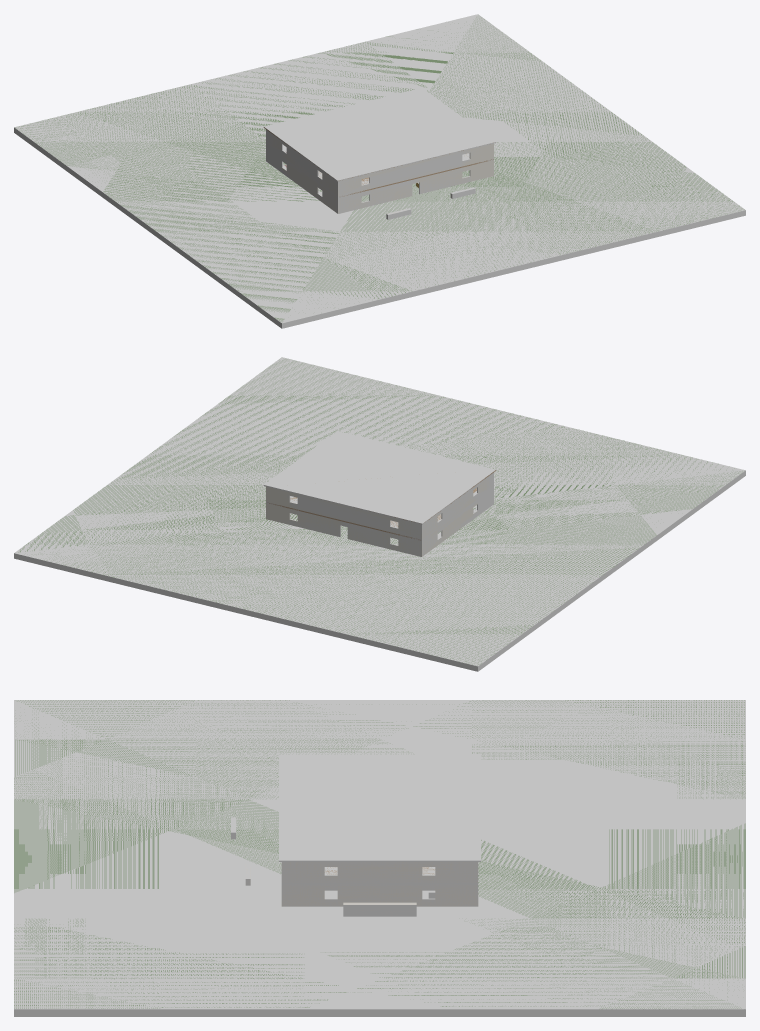
File: map_house_large.glb
3 views of the same model, one above another, from view 1: azimuth 30°, elevation 25°; view 2: azimuth 150°, elevation 25°; view 3: azimuth 270°, elevation 25° (orthographic). The views are drawn at different scales.
Parts seen in each view (by area): view 1: Col_Ground, Ground, Col_Roof, Static_Walls, Col_Wall_68, Col_Wall_18, Col_Wall_20; view 2: Col_Ground, Ground, Col_Roof, Static_Walls, Col_Wall_75, Col_Wall_27, Col_Wall_29; view 3: Col_Ground, Ground, Col_Roof, Static_Walls, Col_Wall_61, Col_Wall_11, Col_Wall_58, Col_Wall_64, Col_Barrier_03, Col_Wall_14, Col_Wall_08, Col_Floor_07.
Part boxes in pixels (x1=…): Col_Ground: x1=14, y1=14, x2=745, y2=328; Ground: x1=15, y1=17, x2=744, y2=321; Col_Roof: x1=264, y1=88, x2=496, y2=181; Static_Walls: x1=266, y1=133, x2=493, y2=214; Col_Wall_68: x1=369, y1=151, x2=462, y2=188; Col_Wall_18: x1=369, y1=180, x2=412, y2=206; Col_Wall_20: x1=419, y1=168, x2=462, y2=194; Col_Ground: x1=14, y1=357, x2=745, y2=671; Ground: x1=18, y1=359, x2=742, y2=665; Col_Roof: x1=263, y1=431, x2=495, y2=524; Static_Walls: x1=266, y1=477, x2=491, y2=556; Col_Wall_75: x1=297, y1=494, x2=390, y2=531; Col_Wall_27: x1=347, y1=523, x2=390, y2=549; Col_Wall_29: x1=297, y1=511, x2=340, y2=536; Col_Ground: x1=14, y1=700, x2=745, y2=1016; Ground: x1=14, y1=700, x2=745, y2=1009; Col_Roof: x1=279, y1=754, x2=480, y2=861; Static_Walls: x1=245, y1=862, x2=478, y2=916; Col_Wall_61: x1=337, y1=862, x2=422, y2=882; Col_Wall_11: x1=337, y1=884, x2=422, y2=906; Col_Wall_58: x1=281, y1=862, x2=324, y2=882; Col_Wall_64: x1=435, y1=862, x2=478, y2=882; Col_Barrier_03: x1=343, y1=905, x2=416, y2=916; Col_Wall_14: x1=435, y1=884, x2=478, y2=906; Col_Wall_08: x1=281, y1=884, x2=324, y2=906; Col_Floor_07: x1=281, y1=867, x2=478, y2=884.
Size of the model in its own units: 90 by 7.4 by 90.
